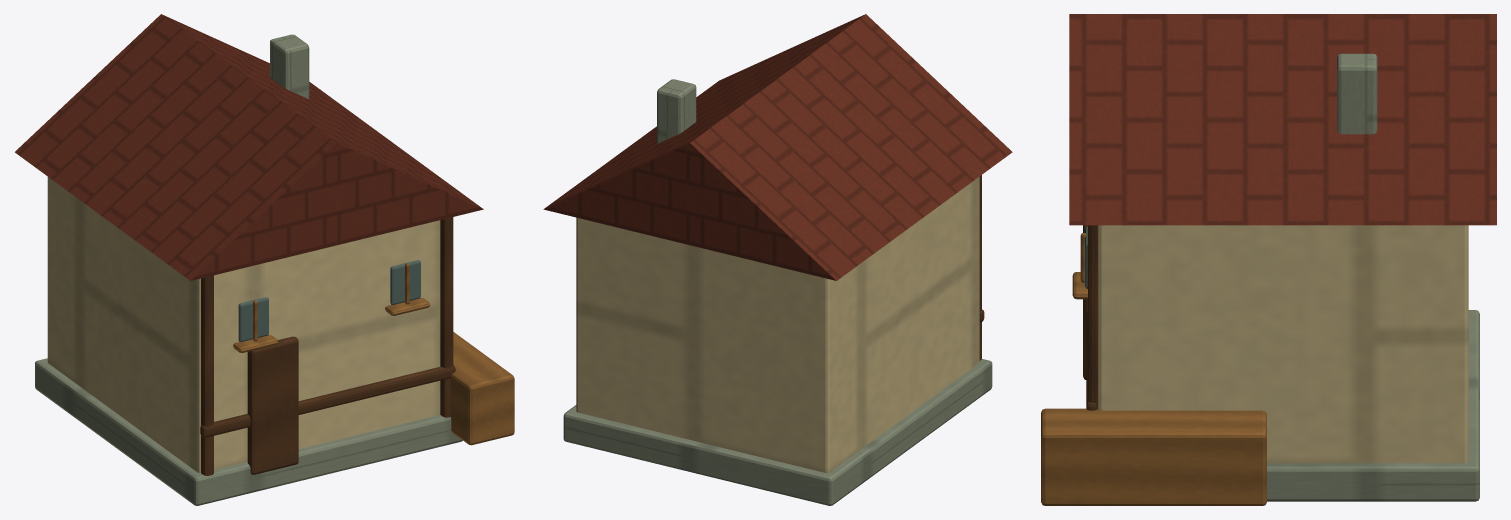
Rendered from stable.glb.
The picture shows the model from 3 angles, left to right: view 1: azimuth 30°, elevation 25°; view 2: azimuth 150°, elevation 25°; view 3: azimuth 270°, elevation 25°; orthographic projection. The views are drawn at different scales.
Visible parts, largest first — view 1: gable_roof, plaster, foundation, door, trough, beam, timber_corner.001, timber_corner, chimney, window_inset, window_inset.001; view 2: plaster, gable_roof, foundation, chimney, timber_corner; view 3: gable_roof, plaster, trough, foundation, chimney, timber_corner.001.
Part boxes in pixels (x1,y1,x2,y2): gable_roof: [15, 14, 483, 280]; plaster: [47, 177, 440, 472]; foundation: [35, 358, 462, 505]; door: [247, 336, 298, 474]; trough: [450, 332, 514, 445]; beam: [200, 365, 455, 437]; timber_corner.001: [440, 217, 453, 417]; timber_corner: [201, 275, 213, 475]; chimney: [270, 34, 309, 98]; window_inset: [238, 297, 268, 341]; window_inset.001: [390, 260, 420, 304]; plaster: [576, 176, 979, 472]; gable_roof: [543, 14, 1012, 280]; foundation: [563, 359, 992, 505]; chimney: [657, 79, 696, 143]; timber_corner: [979, 175, 981, 360]; gable_roof: [1069, 14, 1496, 225]; plaster: [1098, 225, 1468, 463]; trough: [1041, 408, 1266, 505]; foundation: [1267, 310, 1479, 501]; chimney: [1337, 53, 1377, 134]; timber_corner.001: [1088, 225, 1097, 409].
Bounding box in the file's own units: 2.72 × 2.8 × 2.83.
Materials: 6 (5 with a texture image).
